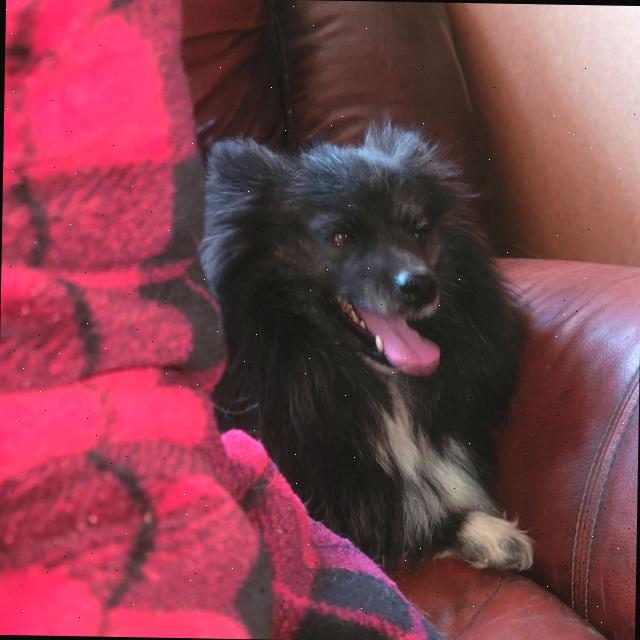pomeranian_dog: (193, 108, 513, 402)
